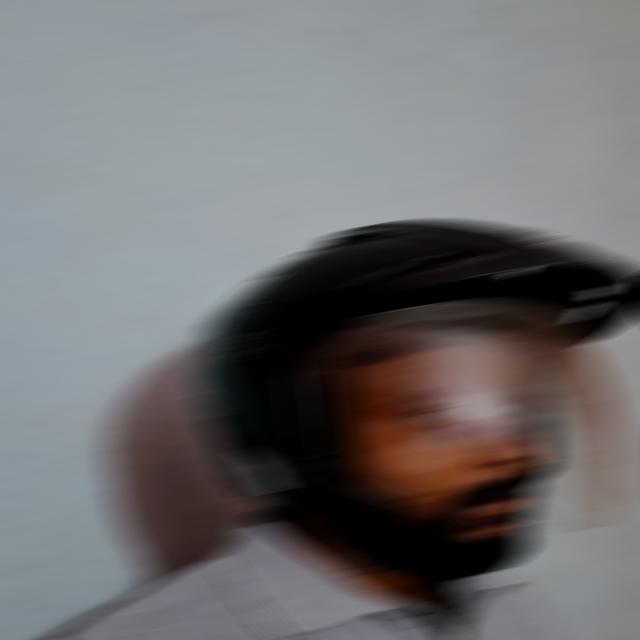With Helmet: (189, 221, 640, 532)
